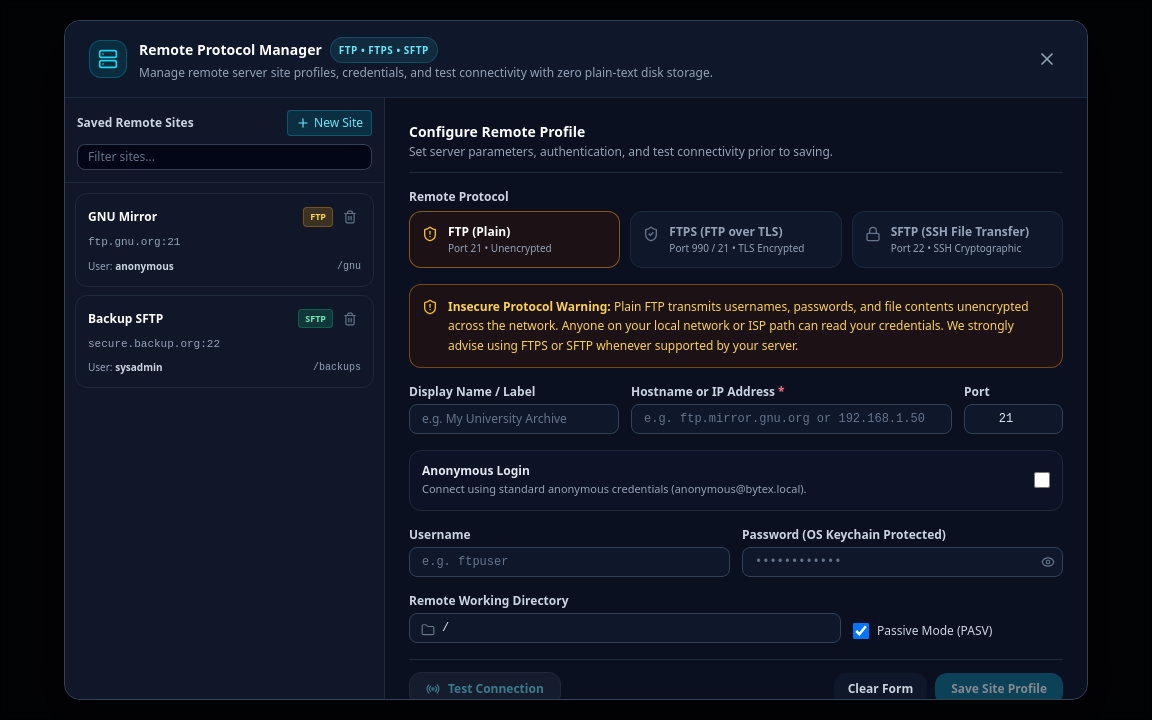
Test: RemoteProtocolModal Component › updates default port and removes insecure warning when switching to SFTP or FTPS
Click the button "SFTP (SSH File Transfer) Port 22 • SSH Cryptographic" at (957, 239), box 852,211 -> 1063,268
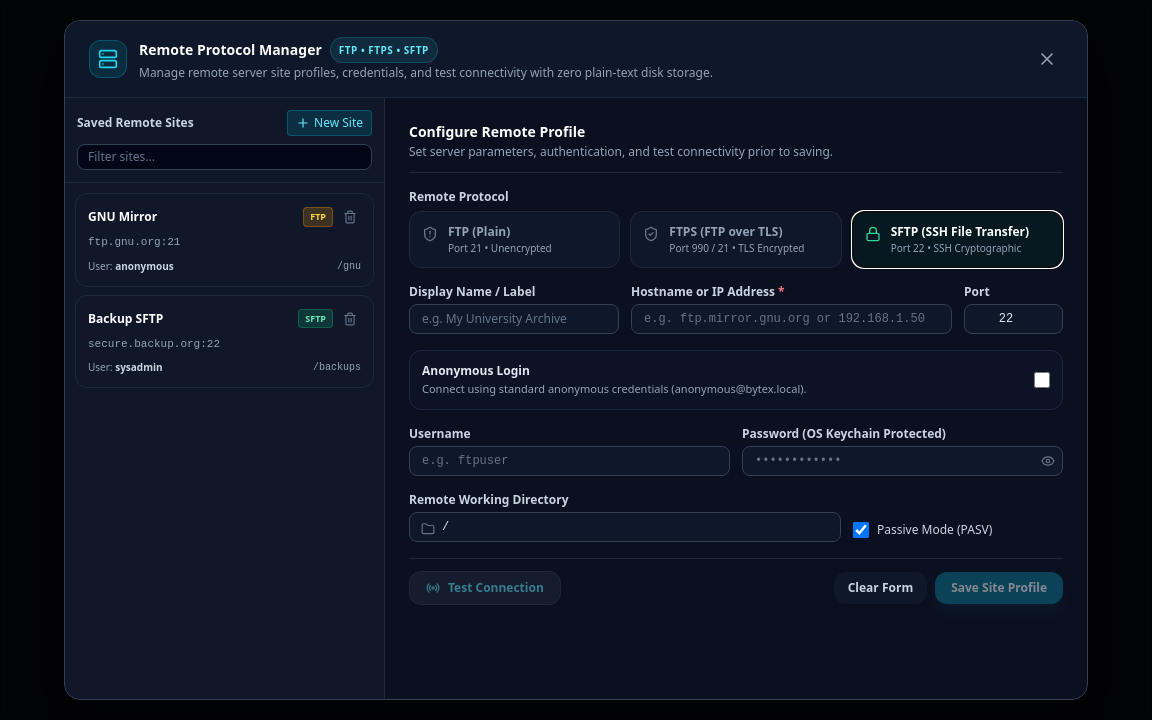
Expected: the number field showing "22" is shown, 964,304 -> 1063,334
Expected: the text "Insecure Protocol Warning:" is gone
// Switch to FTPS
Click the button "FTPS (FTP over TLS) Port 990 / 21 • TLS Encrypted" at (736, 239), box 630,211 -> 842,268
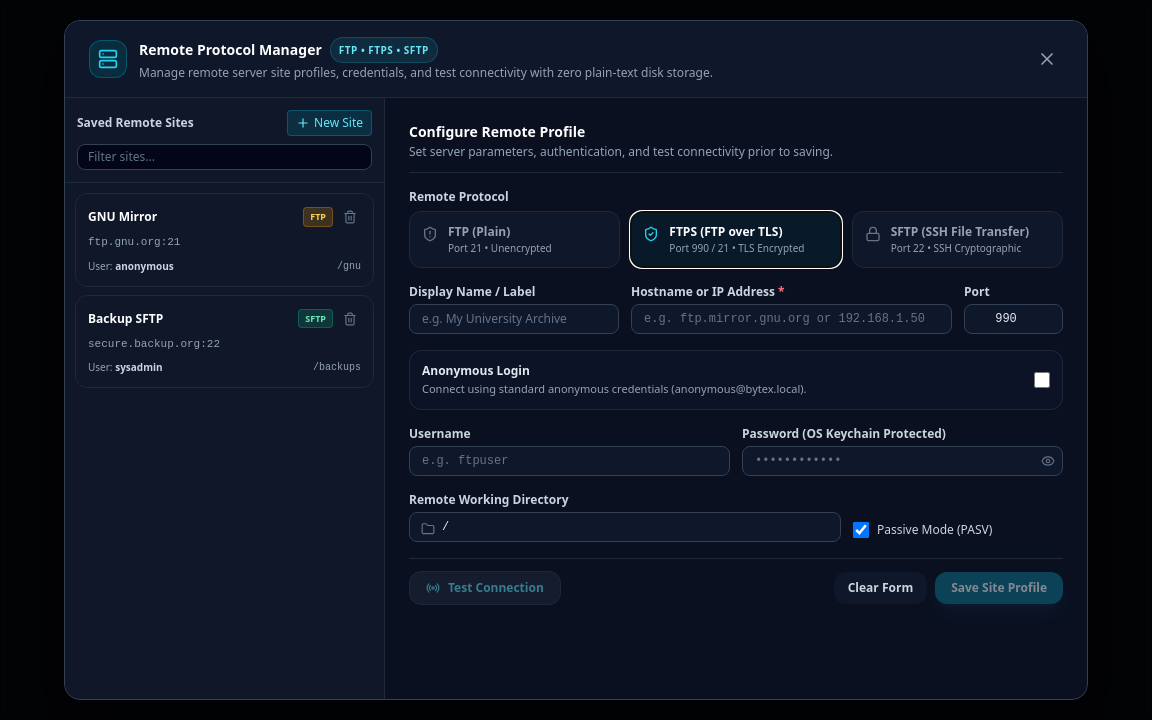
Expected: the text "Insecure Protocol Warning:" is not shown
Expected: the number field showing "990" is shown, 964,304 -> 1063,334
